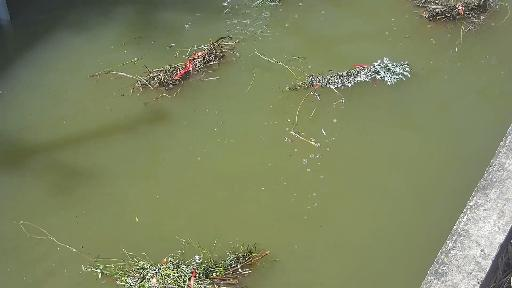twig: (6, 214, 307, 278), (85, 19, 267, 99), (255, 47, 433, 104), (413, 0, 512, 23)
